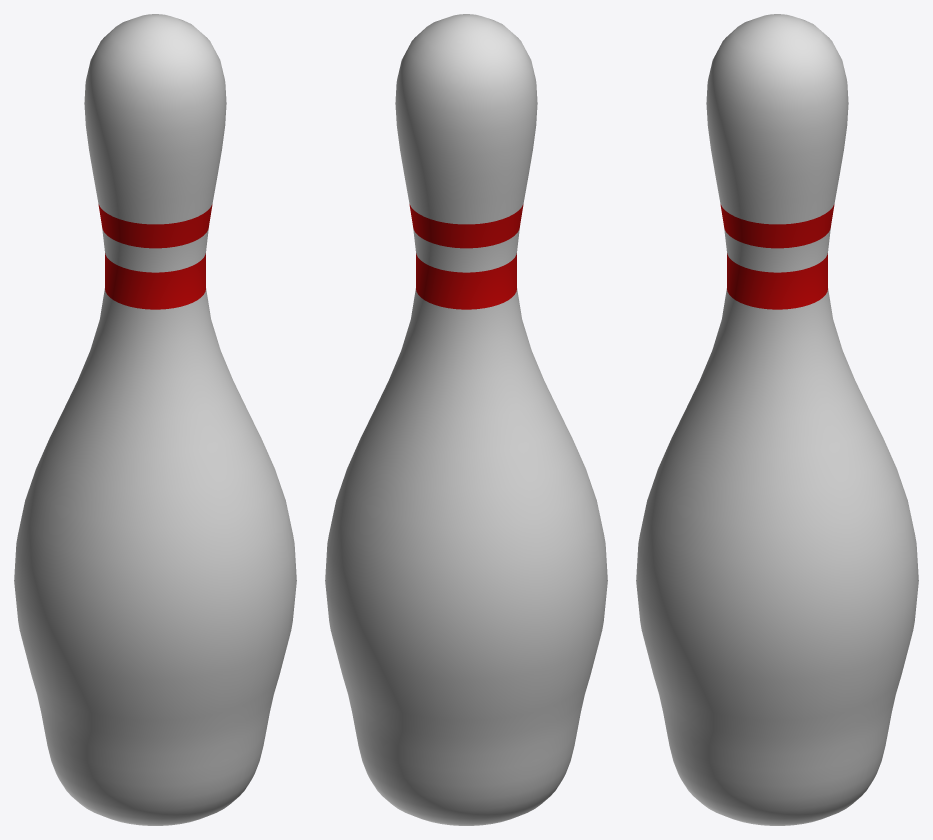
Rendered from bowling_pin_000.fbx.
The picture shows the model from 3 angles, left to right: view 1: azimuth 30°, elevation 25°; view 2: azimuth 150°, elevation 25°; view 3: azimuth 270°, elevation 25°; orthographic projection.
Visible parts, largest first — view 1: Pin; view 2: Pin; view 3: Pin.
Boxes of the visible parts, x1=… form: Pin: x1=14, y1=14, x2=296, y2=825; Pin: x1=325, y1=14, x2=607, y2=825; Pin: x1=636, y1=14, x2=918, y2=825.
Size of the model in its own units: 38.97 by 120 by 39.08.
